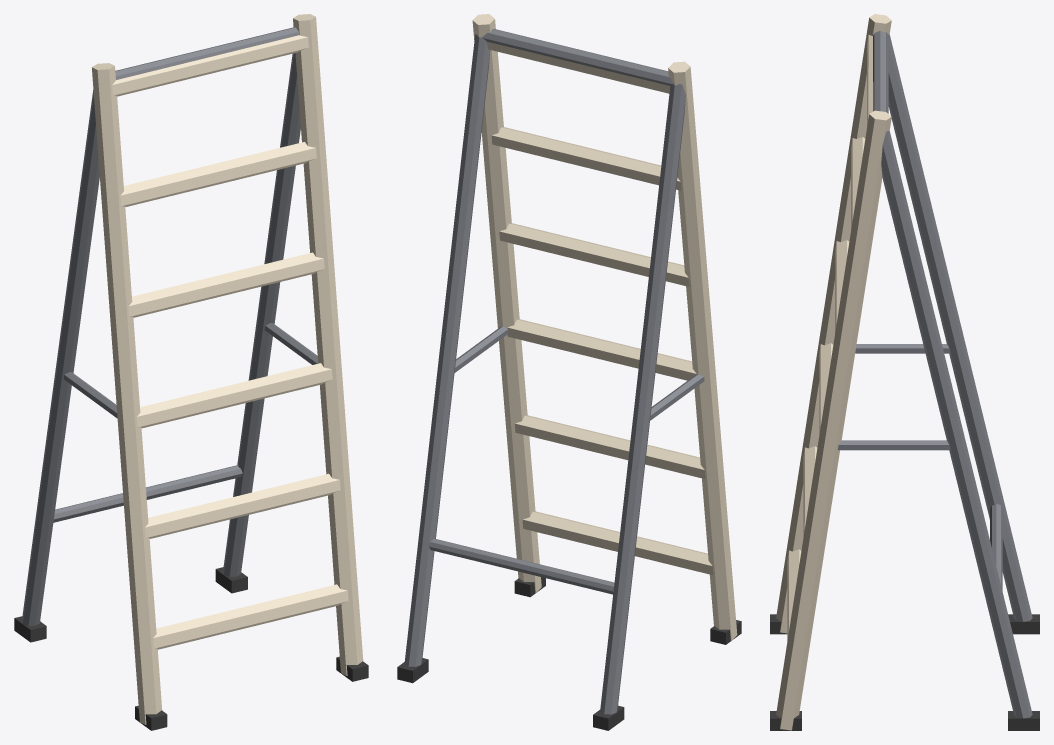
The picture shows the model from 3 angles, left to right: view 1: azimuth 30°, elevation 25°; view 2: azimuth 150°, elevation 25°; view 3: azimuth 270°, elevation 25°; orthographic projection. The views are drawn at different scales.
Visible parts, largest first — view 1: Rail, Rail.001, Rear support leg, Rear support leg.001, Rung.004, Rung.003, Rung.002, Rung, Rung.001, Rung.005, Rear lower cross brace, Top hinge (+2 smaller); view 2: Rail, Rear support leg, Rear support leg.001, Rail.001, Rung, Rung.001, Rung.004, Rung.003, Rung.002, Top hinge, Rear lower cross brace, Rung.005 (+2 smaller); view 3: Rail.001, Rear support leg.001, Rear support leg, Rail, Top hinge, Open position spreader.001, Rear lower cross brace, Open position spreader, Rung.001, Rung.003, Rung.004, Rung (+4 smaller).
Boxes of the visible parts, bbox=[...] form: Rail: bbox=[92, 63, 162, 724]; Rail.001: bbox=[293, 14, 363, 675]; Rear support leg: bbox=[22, 90, 99, 625]; Rear support leg.001: bbox=[223, 53, 300, 576]; Rung.004: bbox=[120, 142, 316, 206]; Rung.003: bbox=[128, 252, 324, 317]; Rung.002: bbox=[136, 363, 332, 428]; Rung: bbox=[153, 584, 348, 649]; Rung.001: bbox=[145, 473, 340, 538]; Rung.005: bbox=[112, 35, 308, 96]; Rear lower cross brace: bbox=[53, 465, 242, 522]; Top hinge: bbox=[115, 27, 299, 79]; Rail: bbox=[668, 61, 737, 640]; Rear support leg: bbox=[600, 83, 685, 714]; Rear support leg.001: bbox=[404, 34, 490, 666]; Rail.001: bbox=[472, 14, 541, 592]; Rung: bbox=[522, 511, 713, 575]; Rung.001: bbox=[514, 415, 705, 479]; Rung.004: bbox=[491, 127, 681, 190]; Rung.003: bbox=[499, 223, 689, 286]; Rung.002: bbox=[507, 319, 696, 380]; Top hinge: bbox=[482, 29, 672, 85]; Rear lower cross brace: bbox=[428, 539, 614, 594]; Rung.005: bbox=[486, 41, 670, 93]; Rail.001: bbox=[776, 110, 891, 730]; Rear support leg.001: bbox=[881, 130, 1032, 718]; Rear support leg: bbox=[888, 34, 1032, 621]; Rail: bbox=[776, 14, 891, 633]; Top hinge: bbox=[873, 30, 888, 113]; Open position spreader.001: bbox=[837, 440, 950, 450]; Rear lower cross brace: bbox=[990, 504, 1002, 590]; Open position spreader: bbox=[855, 344, 950, 353]; Rung.001: bbox=[803, 446, 817, 537]; Rung.003: bbox=[835, 240, 849, 333]; Rung.004: bbox=[851, 137, 865, 229]; Rung: bbox=[787, 549, 801, 640].
Size of the model in its own units: 54.33 by 148 by 59.
